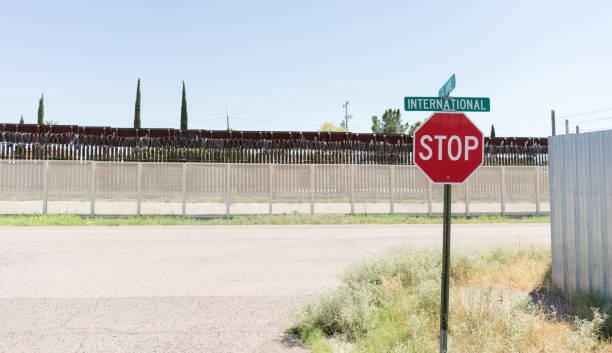Pole: (439, 184, 452, 353)
Sign: (414, 113, 484, 185)
